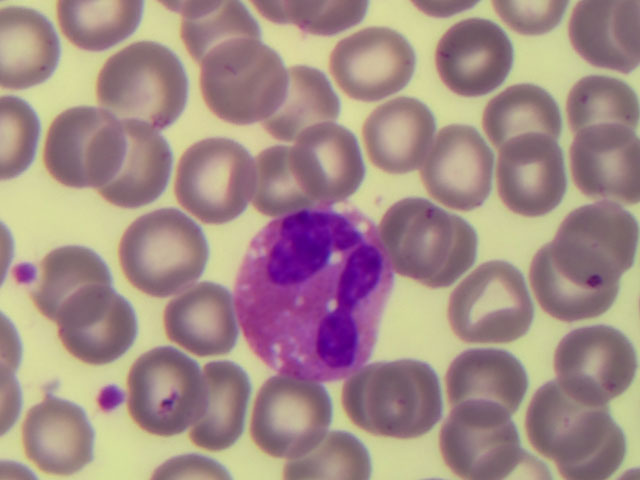Platelets: (96, 386, 124, 410), (14, 262, 37, 282)
RBC: (533, 235, 617, 325), (555, 205, 639, 288), (106, 47, 188, 132), (552, 326, 640, 405), (124, 210, 201, 300), (46, 102, 123, 188), (98, 118, 170, 206), (461, 264, 539, 345), (132, 351, 208, 434), (251, 378, 326, 460), (206, 44, 284, 122), (531, 380, 608, 459), (485, 81, 561, 161), (336, 26, 417, 101), (181, 140, 254, 221), (495, 135, 564, 219), (40, 248, 112, 326), (440, 402, 513, 477), (61, 291, 136, 362), (438, 19, 509, 94), (423, 128, 491, 206), (181, 2, 260, 68), (265, 64, 336, 137), (573, 128, 640, 205), (27, 394, 93, 472), (571, 76, 640, 150), (409, 213, 477, 288), (344, 365, 414, 437), (382, 201, 452, 272), (366, 99, 434, 172), (449, 351, 523, 418), (195, 363, 250, 451), (375, 364, 441, 437), (295, 127, 361, 197), (558, 412, 625, 479), (166, 288, 236, 352), (250, 145, 320, 207), (1, 11, 55, 89), (569, 1, 627, 73), (289, 433, 371, 480), (58, 1, 148, 40), (1, 94, 35, 181), (474, 444, 545, 480), (155, 448, 232, 480), (284, 1, 366, 31), (496, 1, 563, 37), (605, 5, 640, 62)
WBC: (237, 217, 385, 378)
